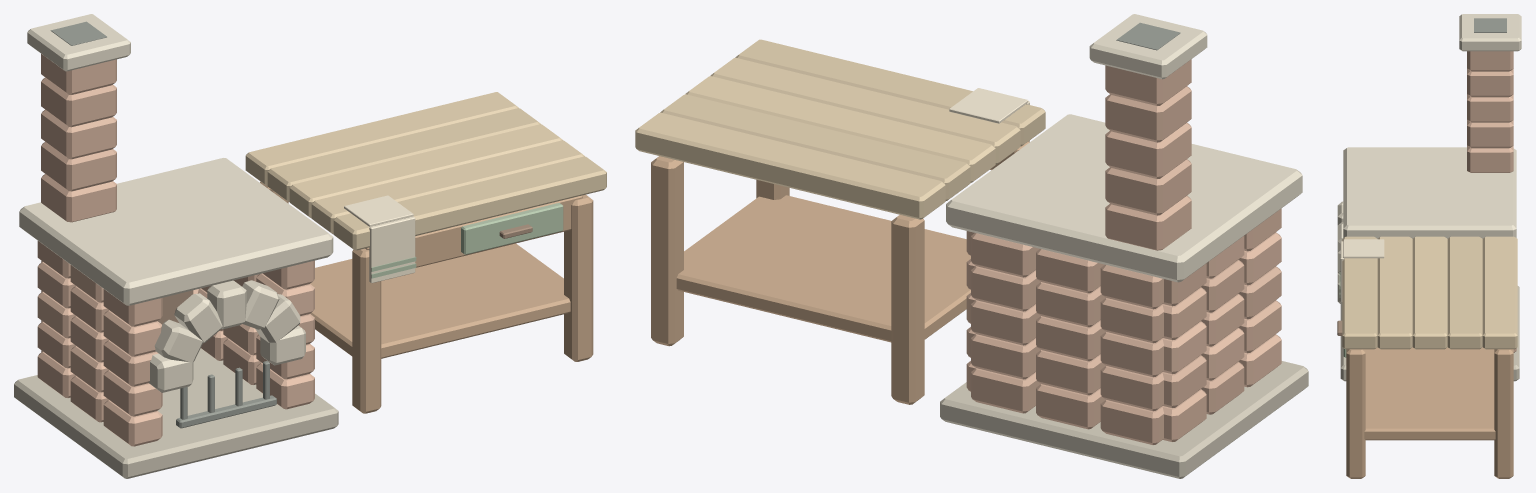
File: crafted-kitchen-1-ready.glb
The picture shows the model from 3 angles, left to right: view 1: azimuth 30°, elevation 25°; view 2: azimuth 150°, elevation 25°; view 3: azimuth 270°, elevation 25°; orthographic projection. The views are drawn at different scales.
Parts seen in each view (by area): view 1: stove-top, shelf, hearth, worktop-plank-4, worktop-plank-2, worktop-plank, worktop-plank-1, worktop-plank-3, table-leg-3, table-leg-1, chimney-cap, drawer-front (+36 smaller); view 2: stove-top, shelf, worktop-plank, hearth, worktop-plank-2, worktop-plank-1, worktop-plank-3, worktop-plank-4, table-leg, table-leg-2, chimney-cap, chimney-course-1 (+36 smaller); view 3: stove-top, shelf, worktop-plank, worktop-plank-1, worktop-plank-2, worktop-plank-3, worktop-plank-4, table-leg-3, table-leg-2, chimney-cap, chimney-course-1, chimney-course-3 (+6 smaller).
Boxes of the visible parts, x1,y1,x2,y2 form: stove-top: (19, 158, 333, 305); shelf: (310, 243, 570, 358); hearth: (14, 348, 338, 478); worktop-plank-4: (333, 156, 606, 250); worktop-plank-2: (289, 124, 562, 218); worktop-plank: (245, 92, 518, 185); worktop-plank-1: (267, 108, 540, 201); worktop-plank-3: (311, 140, 584, 234); table-leg-3: (564, 194, 593, 361); table-leg-1: (352, 248, 381, 413); chimney-cap: (27, 14, 130, 71); drawer-front: (461, 203, 563, 254); stove-top: (946, 114, 1302, 282); shelf: (676, 195, 970, 342); worktop-plank: (635, 112, 945, 219); hearth: (940, 361, 1308, 478); worktop-plank-2: (685, 76, 995, 182); worktop-plank-1: (660, 94, 970, 200); worktop-plank-3: (710, 58, 1020, 164); worktop-plank-4: (735, 39, 1045, 146); table-leg: (891, 215, 924, 404); table-leg-2: (651, 156, 683, 346); chimney-cap: (1089, 14, 1207, 79); chimney-course-1: (1105, 159, 1191, 215); stove-top: (1343, 147, 1516, 238); shelf: (1364, 347, 1495, 440); worktop-plank: (1482, 236, 1517, 349); worktop-plank-1: (1447, 236, 1482, 349); worktop-plank-2: (1412, 236, 1447, 349); worktop-plank-3: (1377, 236, 1412, 349); worktop-plank-4: (1342, 236, 1377, 349); table-leg-3: (1346, 349, 1365, 478); table-leg-2: (1494, 349, 1513, 478); chimney-cap: (1459, 14, 1521, 51); chimney-course-1: (1467, 120, 1513, 148); chimney-course-3: (1467, 69, 1513, 97).
Bounding box in the file's own units: 2.29 × 1.66 × 0.946.
